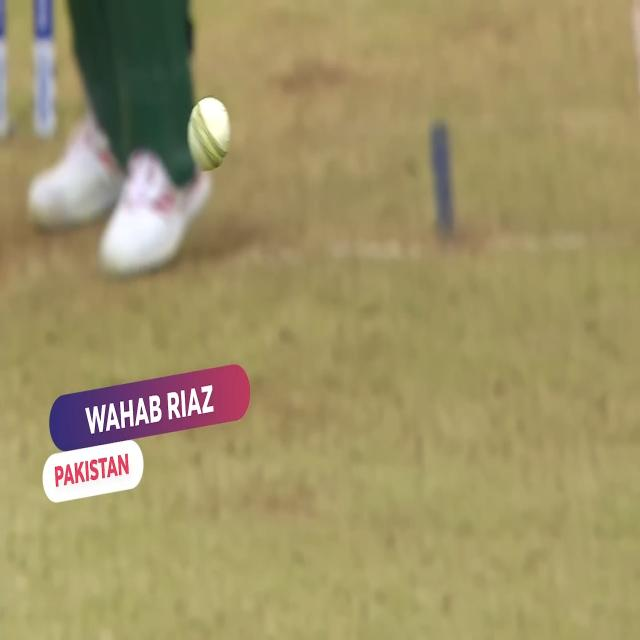ball: (186, 86, 237, 168)
